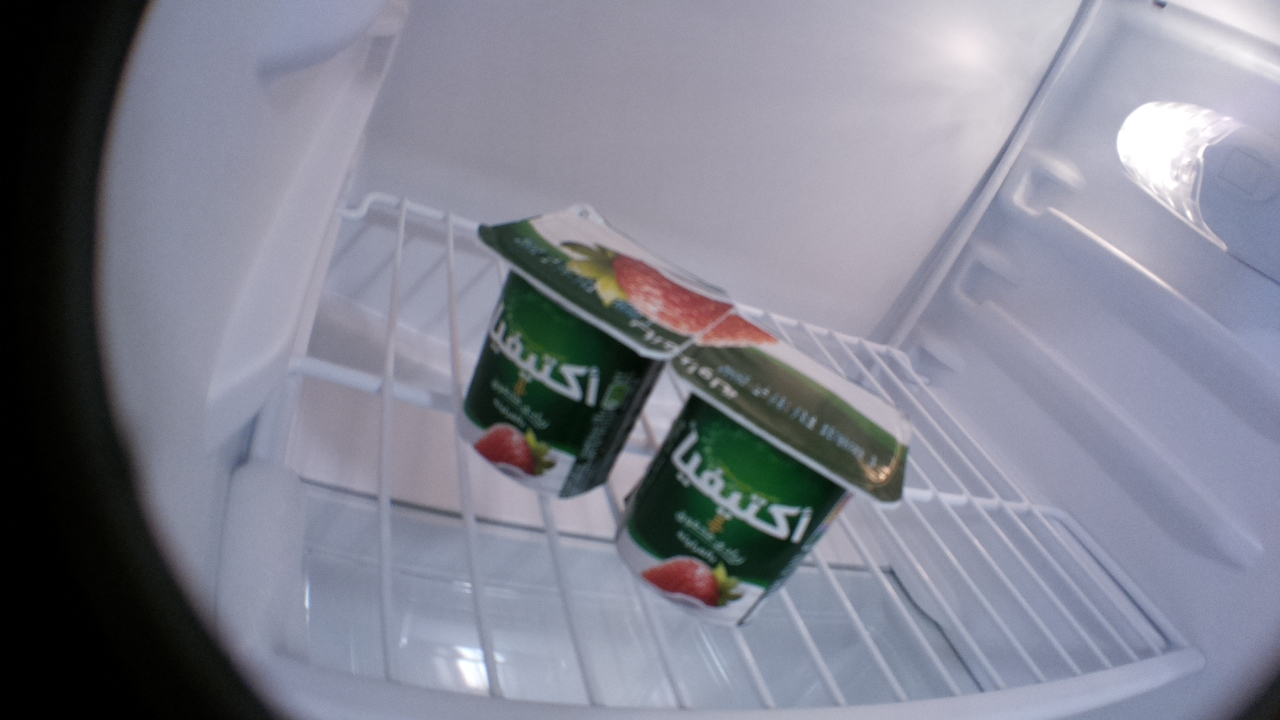yoghurt: (614, 308, 909, 626), (454, 198, 731, 498)
